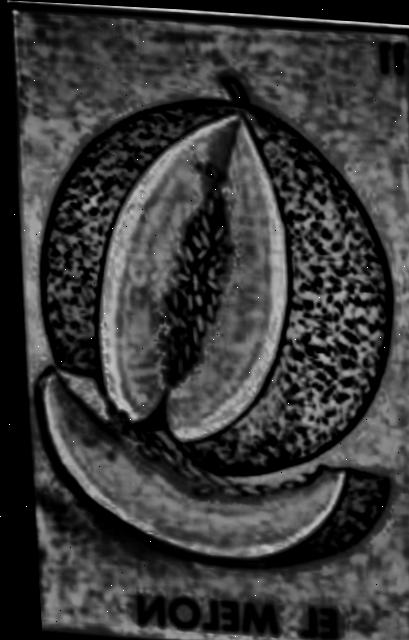El Melon: (0, 4, 409, 640)
